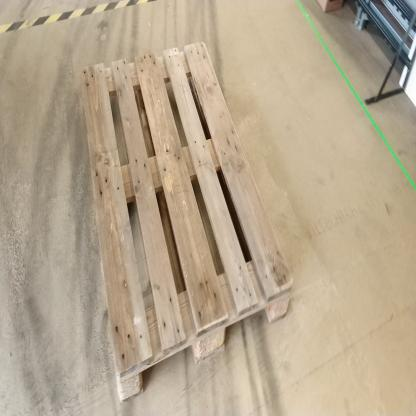BoxFace: (78, 32, 294, 409)
